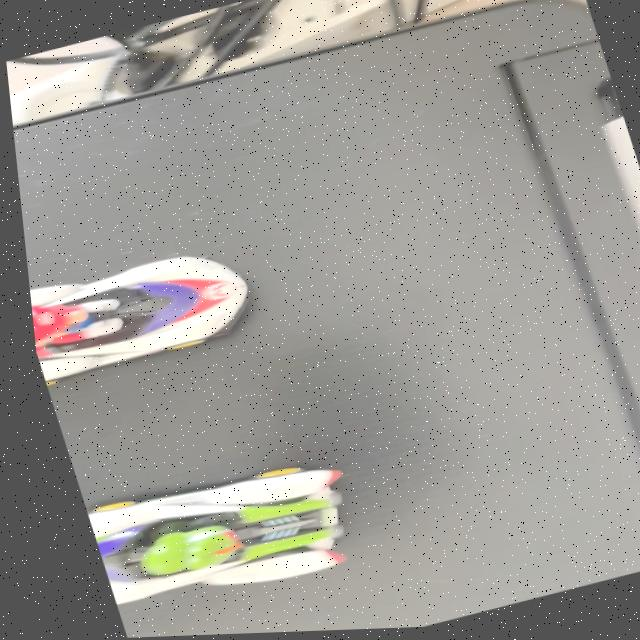mario: (19, 228, 281, 392)
yoshi: (71, 433, 387, 635)
